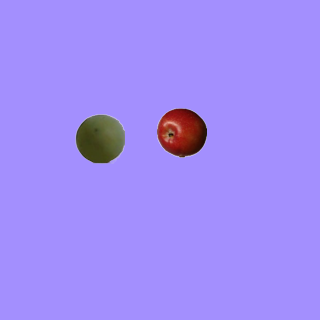Apple Braeburn: (156, 107, 206, 157)
Grape White 4: (74, 113, 124, 163)
